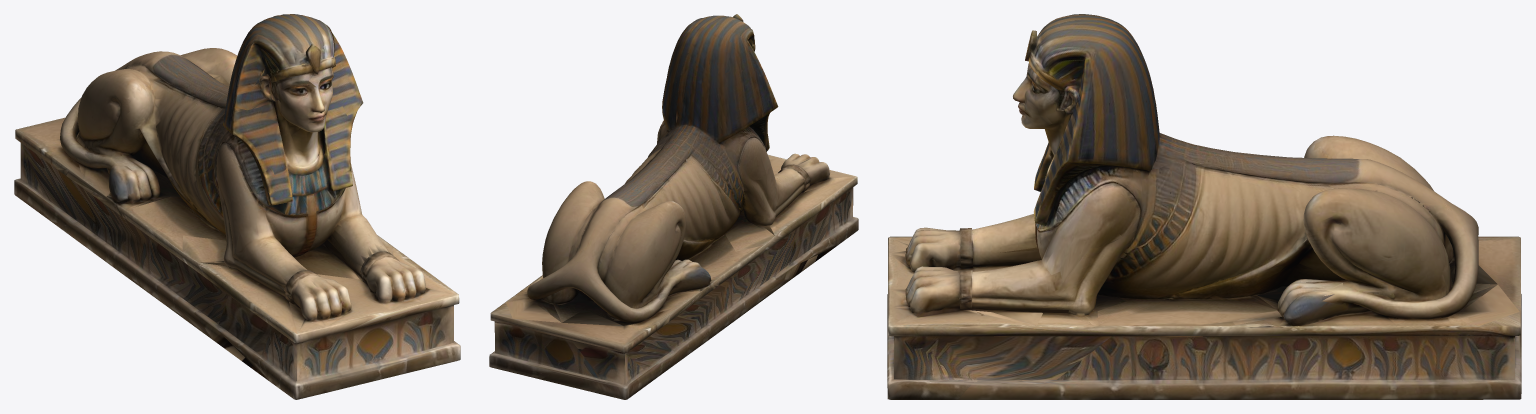
Rendered from egy-sphinx.glb.
3 views of the same model, side by side, from view 1: azimuth 30°, elevation 25°; view 2: azimuth 150°, elevation 25°; view 3: azimuth 270°, elevation 25° (orthographic). The views are drawn at different scales.
Parts seen in each view (by area): view 1: model; view 2: model; view 3: model.
Boxes of the visible parts, <box> form: model: <box>14,14,460,399</box>; model: <box>489,14,858,399</box>; model: <box>887,14,1521,399</box>.
Size of the model in its own units: 1.02 by 1.74 by 3.
Materials: 1 (1 with a texture image).
